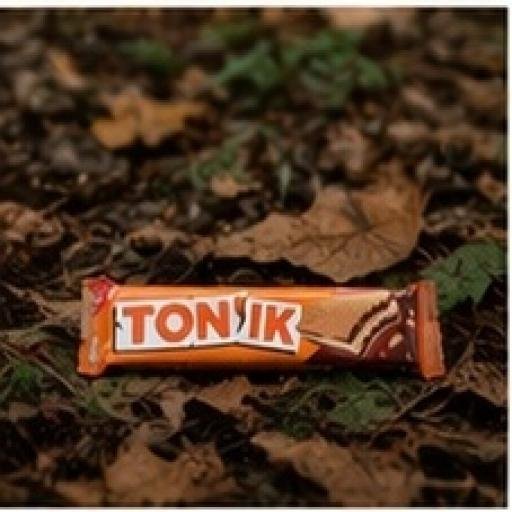tonik: (42, 191, 476, 453)
